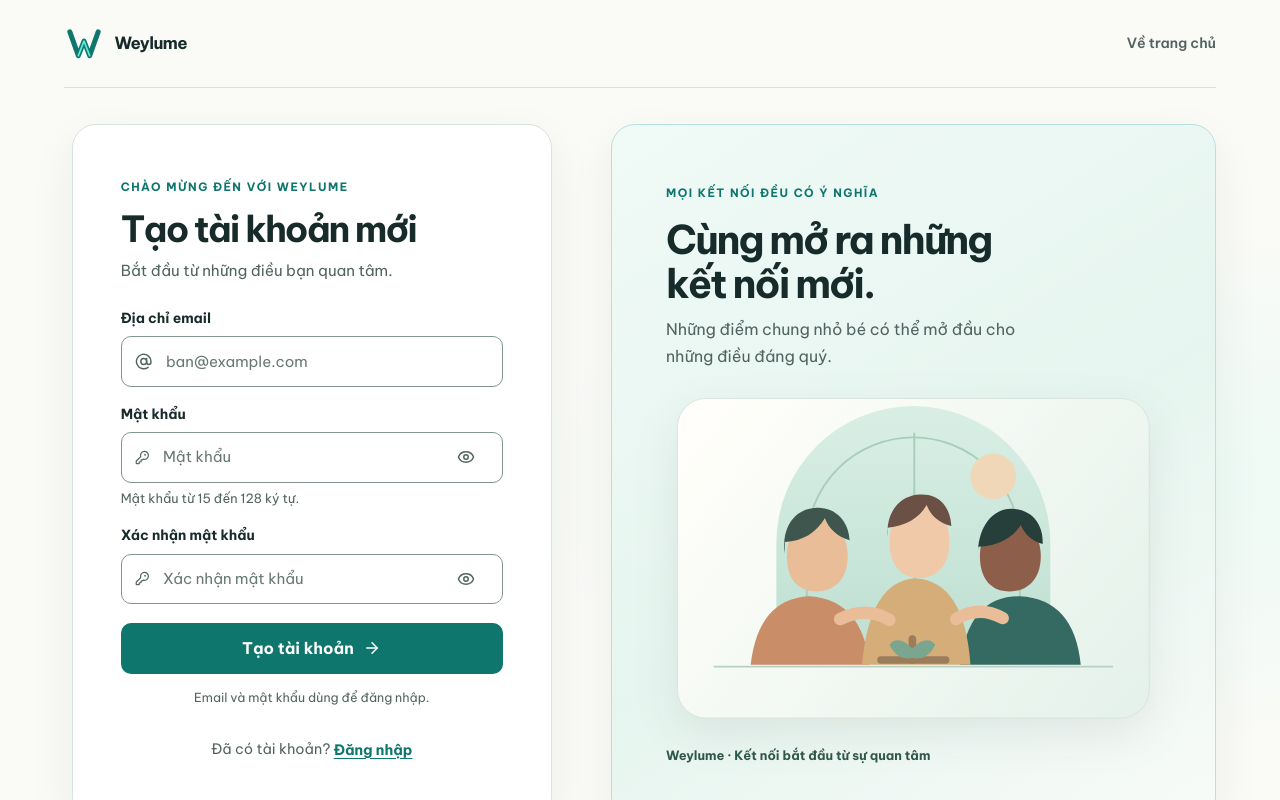
Scenario: authentication pages › requires matching registration password confirmation before sending a request
Expected: the heading "Tạo tài khoản mới" is shown, [121,206,416,252]
Type "an@example.test" into the field labelled "Địa chỉ email" at coordinates (326, 362), box [164,339,488,384]
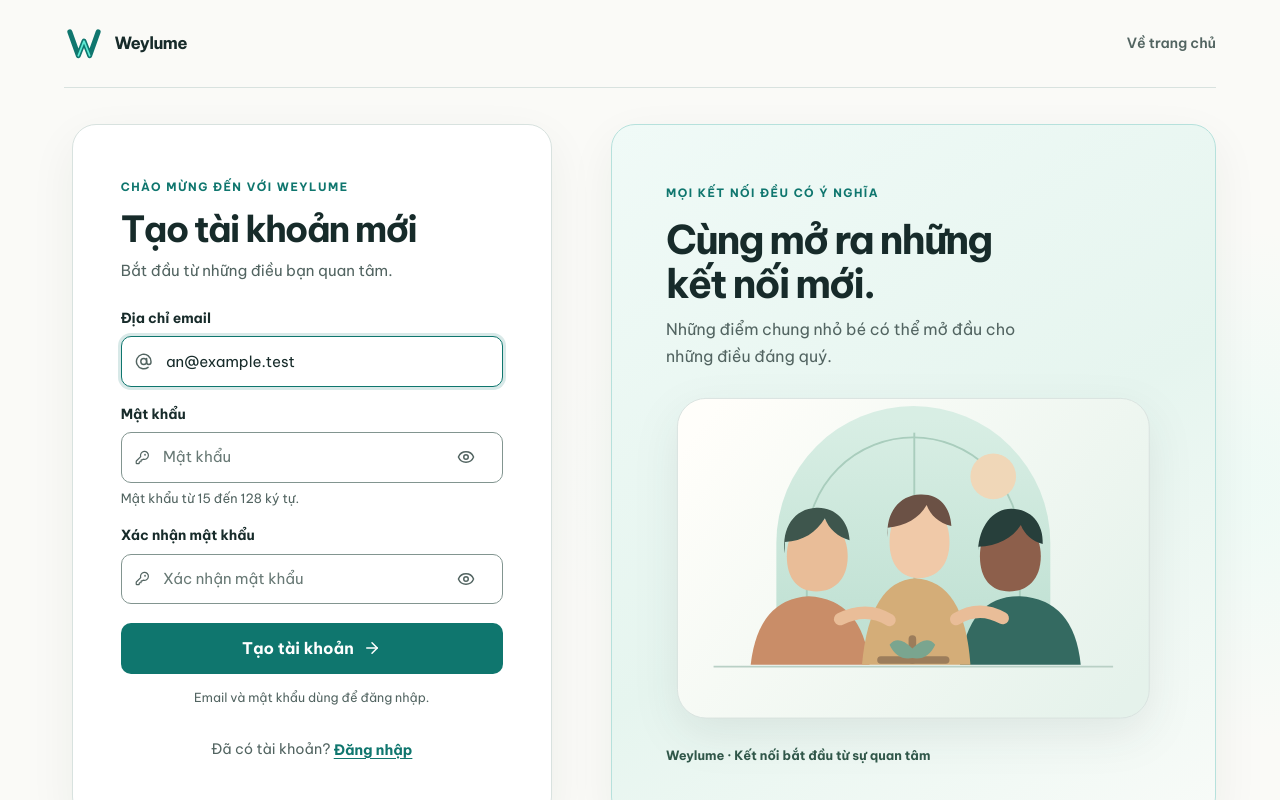
Type "a sufficiently long password" into the password field labelled "Mật khẩu" at coordinates (297, 458), box [161,435,433,480]
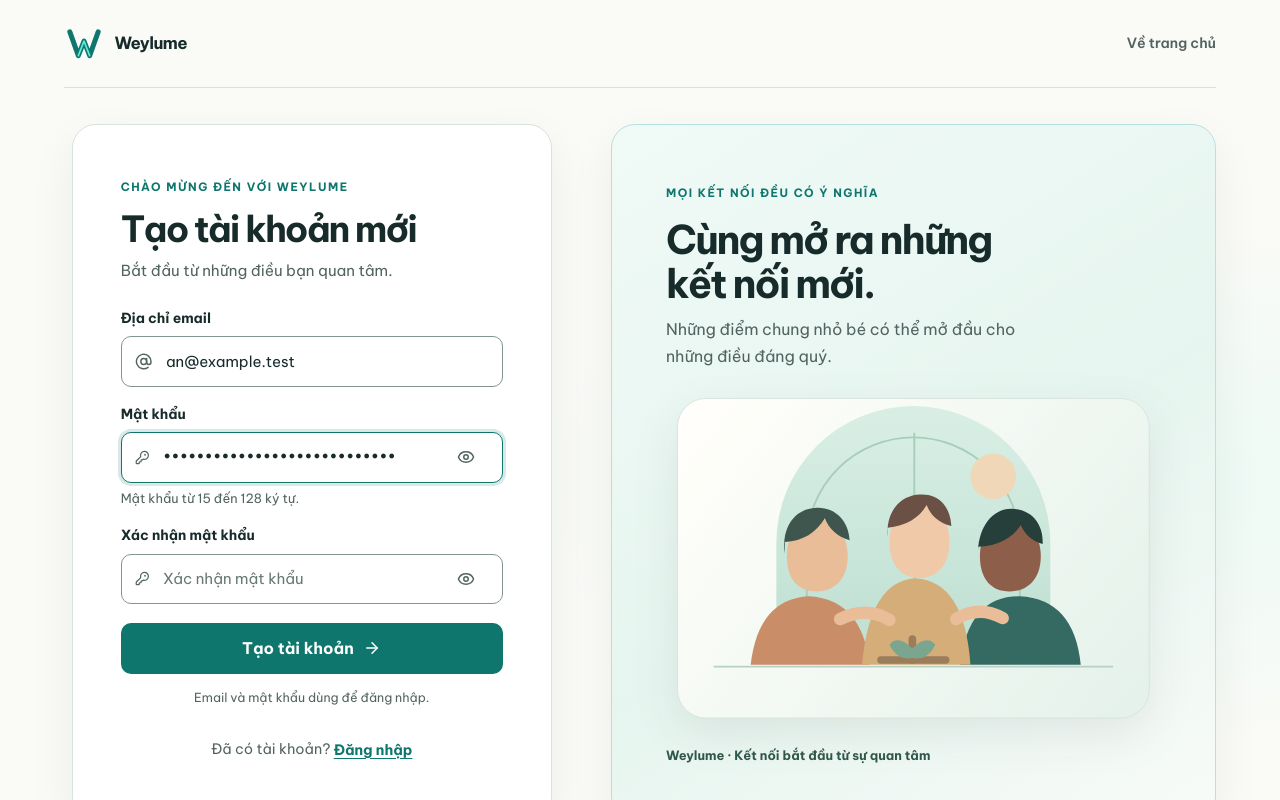
Type "a different password" into the password field labelled "Xác nhận mật khẩu" at coordinates (297, 579), box [161,556,433,601]
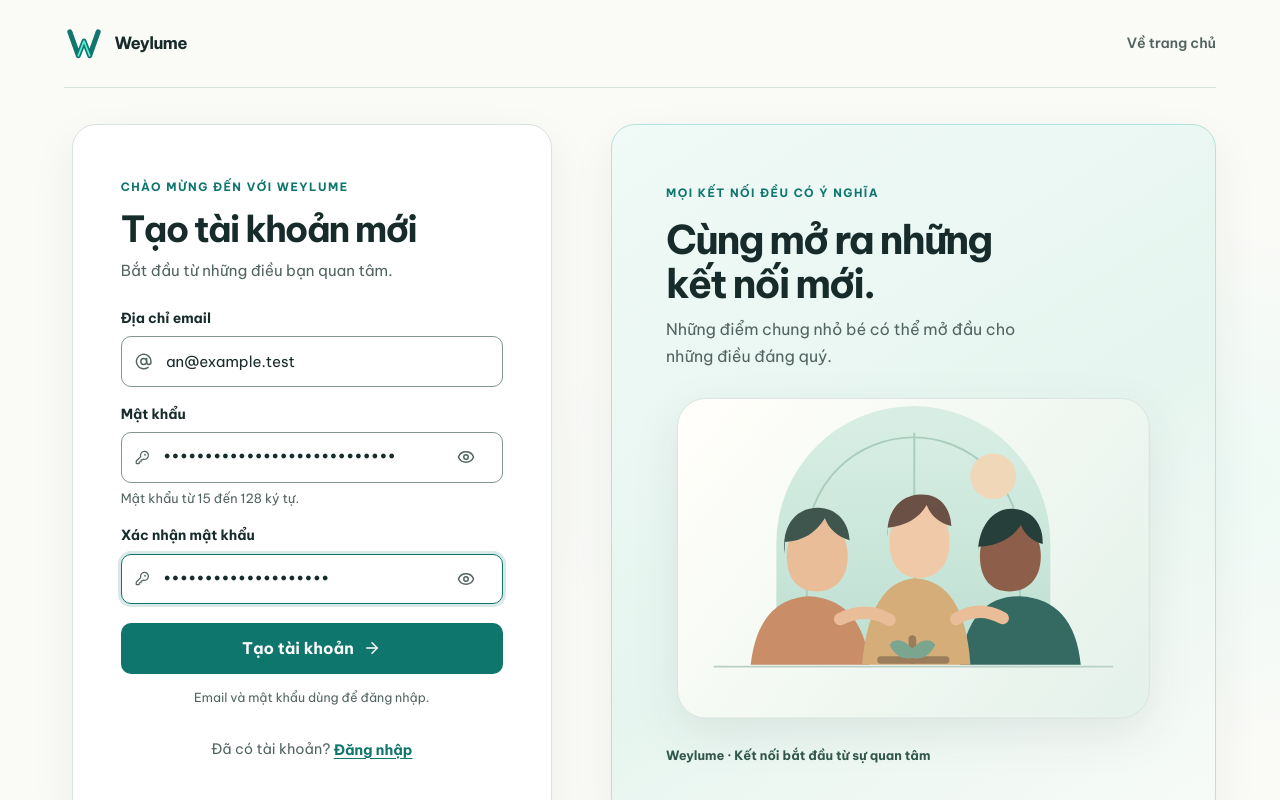
Click the button "Tạo tài khoản" at coordinates (312, 648), box [121,623,503,674]
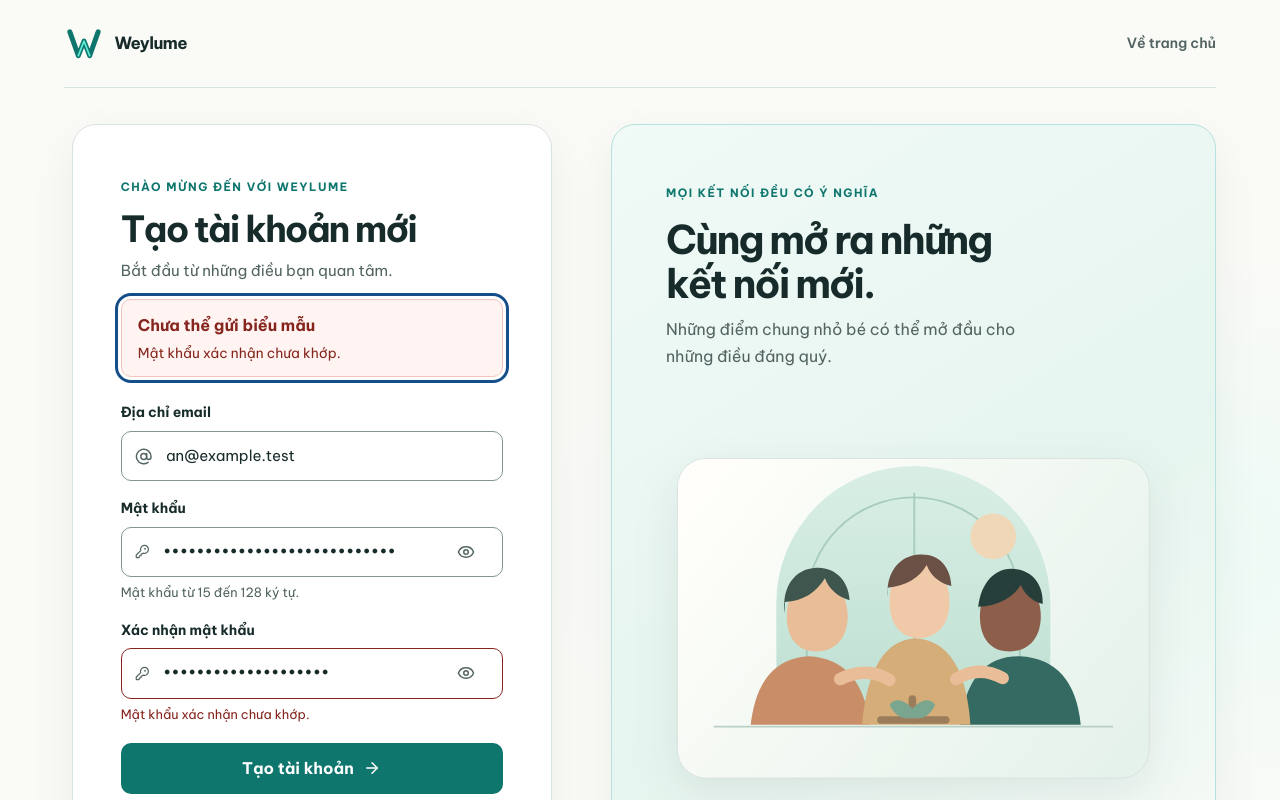
Now the message shows "Mật khẩu xác nhận chưa khớp.", box [138,344,341,362]
